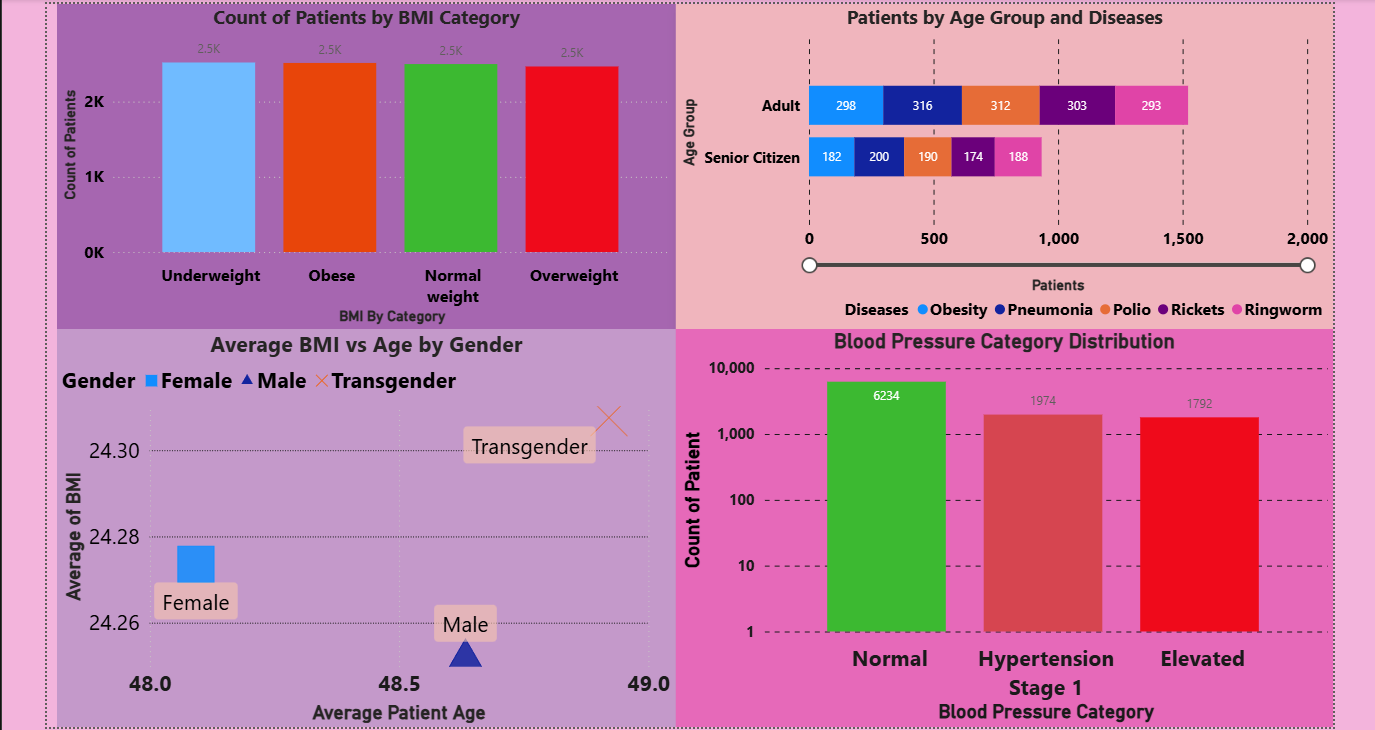

The dashboard page shown, as its layout file describes it:
{"tool":"powerbi","page":{"name":"Page 2","canvas":[1280,720],"ordinal":1},"visuals":[{"type":"columnChart","title":"Count of Patients by BMI Category","fields":{"Category":["hospital_analytics hospital_raw.bmi_category"],"Y":["CountNonNull(hospital_analytics hospital_raw.patient_id)"]},"box":[9.6,0,616.1,323.8],"z":0},{"type":"barChart","title":"Patients by Age Group and Diseases","fields":{"Series":["hospital_analytics hospital_raw.diseases"],"Category":["hospital_analytics hospital_raw.age_group"],"Y":["CountNonNull(hospital_analytics hospital_raw.patient_id)"]},"box":[625.7,0,654.5,323.8],"z":1000},{"type":"scatterChart","title":"Average BMI vs Age by Gender","fields":{"X":["Avg(hospital_analytics hospital_raw.patient_age)"],"Y":["Avg(hospital_analytics hospital_raw.bmi)"],"Series":["hospital_analytics hospital_raw.gender"],"Size":["CountNonNull(hospital_analytics hospital_raw.patient_id)"]},"box":[10,323.4,615.8,396.8],"z":1001},{"type":"clusteredColumnChart","title":"Blood Pressure Category Distribution","fields":{"Category":["hospital_analytics hospital_raw.bp_category"],"Y":["CountNonNull(hospital_analytics hospital_raw.patient_id)"]},"box":[625.7,323.4,654.3,396.8],"z":1002}]}

Visuals, with their boxes on the page's 1280x720 design canvas (x1, y1, x2, y2). These are canvas units, not pixel positions in the 1375x730 screenshot, which may show the page scaled, cropped or inside an application window:
"Count of Patients by BMI Category" columnChart: [x1=10, y1=0, x2=626, y2=324]
"Patients by Age Group and Diseases" barChart: [x1=626, y1=0, x2=1280, y2=324]
"Average BMI vs Age by Gender" scatterChart: [x1=10, y1=323, x2=626, y2=720]
"Blood Pressure Category Distribution" clusteredColumnChart: [x1=626, y1=323, x2=1280, y2=720]
